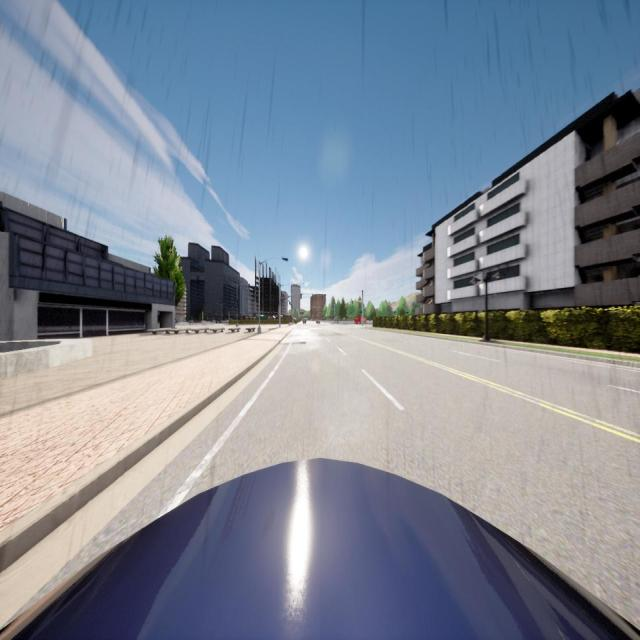Vehicle: (0, 456, 640, 640), (354, 315, 367, 325), (302, 319, 306, 324), (316, 320, 320, 324)
traffic_light: (300, 294, 302, 299), (314, 294, 316, 299), (324, 295, 325, 299)
